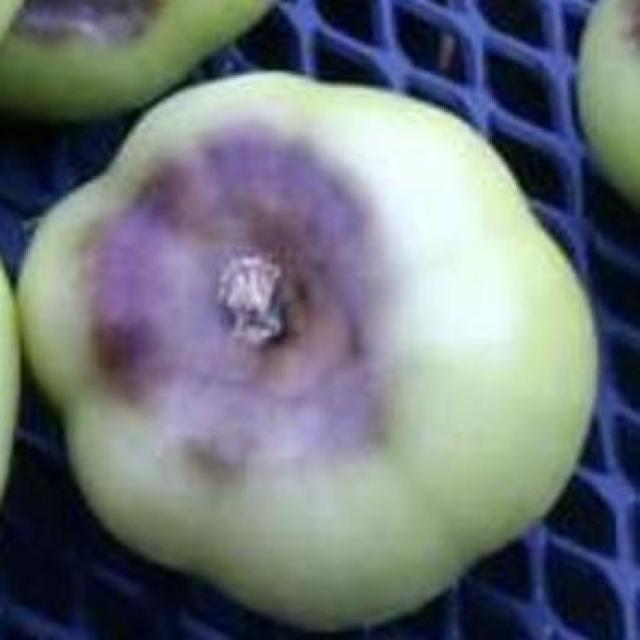Blossom End Rot Fruit: (91, 39, 219, 235)
